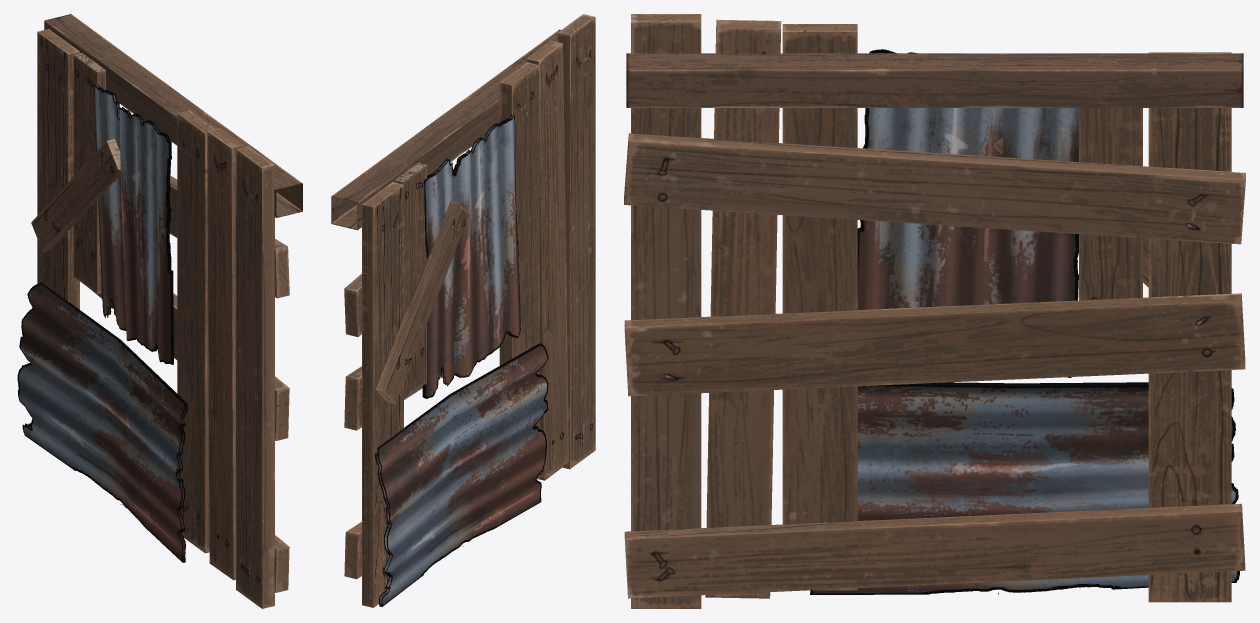
File: wall02_E.fbx
3 views of the same model, side by side, from view 1: azimuth 30°, elevation 25°; view 2: azimuth 150°, elevation 25°; view 3: azimuth 270°, elevation 25° (orthographic). The views are drawn at different scales.
Parts seen in each view (by area): view 1: wall02_E; view 2: wall02_E; view 3: wall02_E.
Boxes of the visible parts, x1,y1,x2,y2 form: wall02_E: (17, 14, 302, 608); wall02_E: (331, 14, 595, 607); wall02_E: (624, 14, 1245, 608).
Bounding box in the file's own units: 43.2 × 315 × 302.
